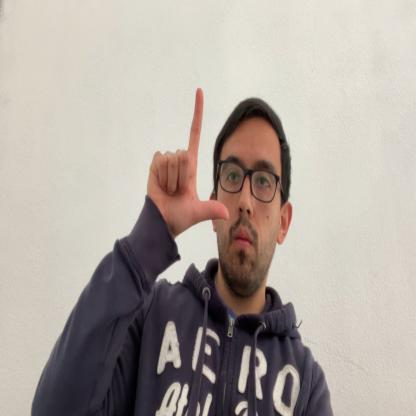L: (146, 88, 230, 242)
